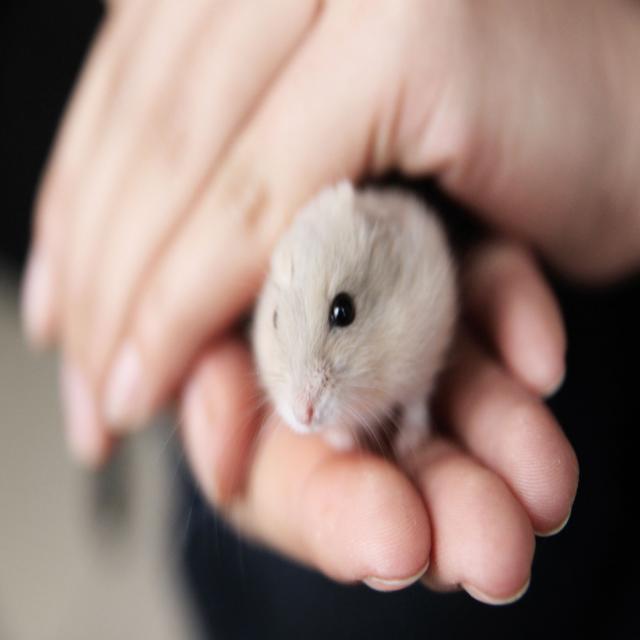hamster: (252, 184, 461, 458)
